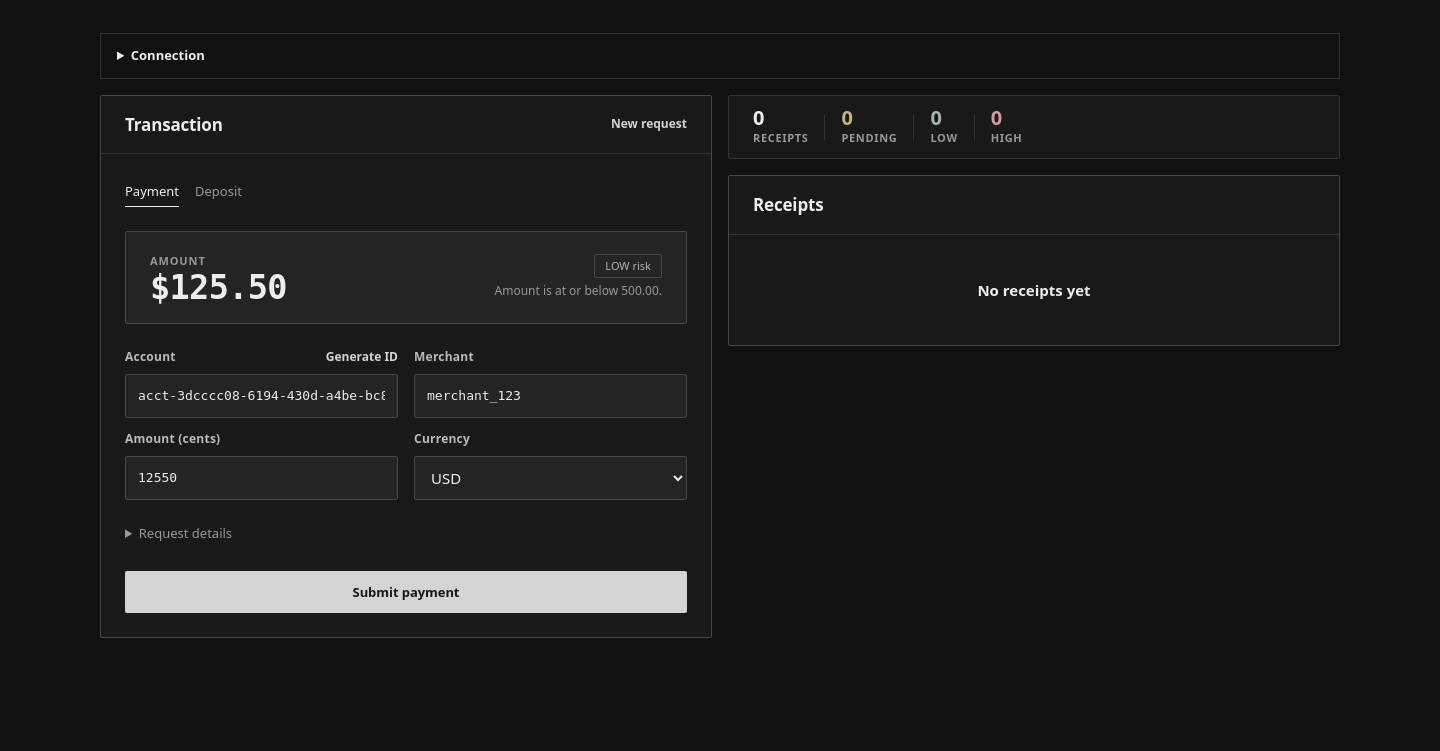
Test: a mismatched funding response cannot add an authorized receipt
Click the heading "Connection".
click(168, 55)  # box [131, 46, 205, 64]
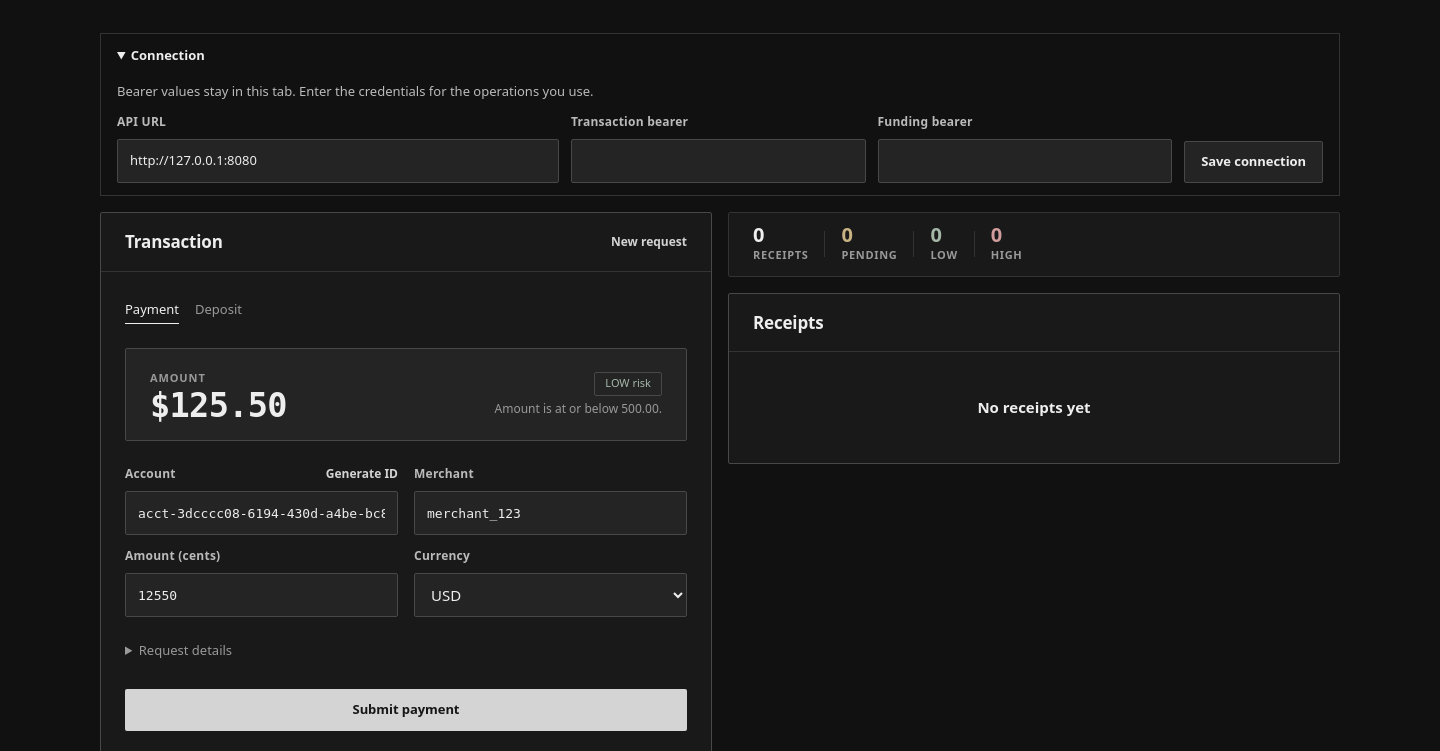
Replace the text in the field labelled "API URL" with "http://localhost:9000" at (338, 161), box [117, 139, 559, 183]
Type "transaction-test" into the password field labelled "Transaction bearer".
click(718, 161); type("transaction-test")  # box [571, 139, 866, 183]
Type "funding-test" into the password field labelled "Funding bearer".
click(1025, 161); type("funding-test")  # box [878, 139, 1172, 183]
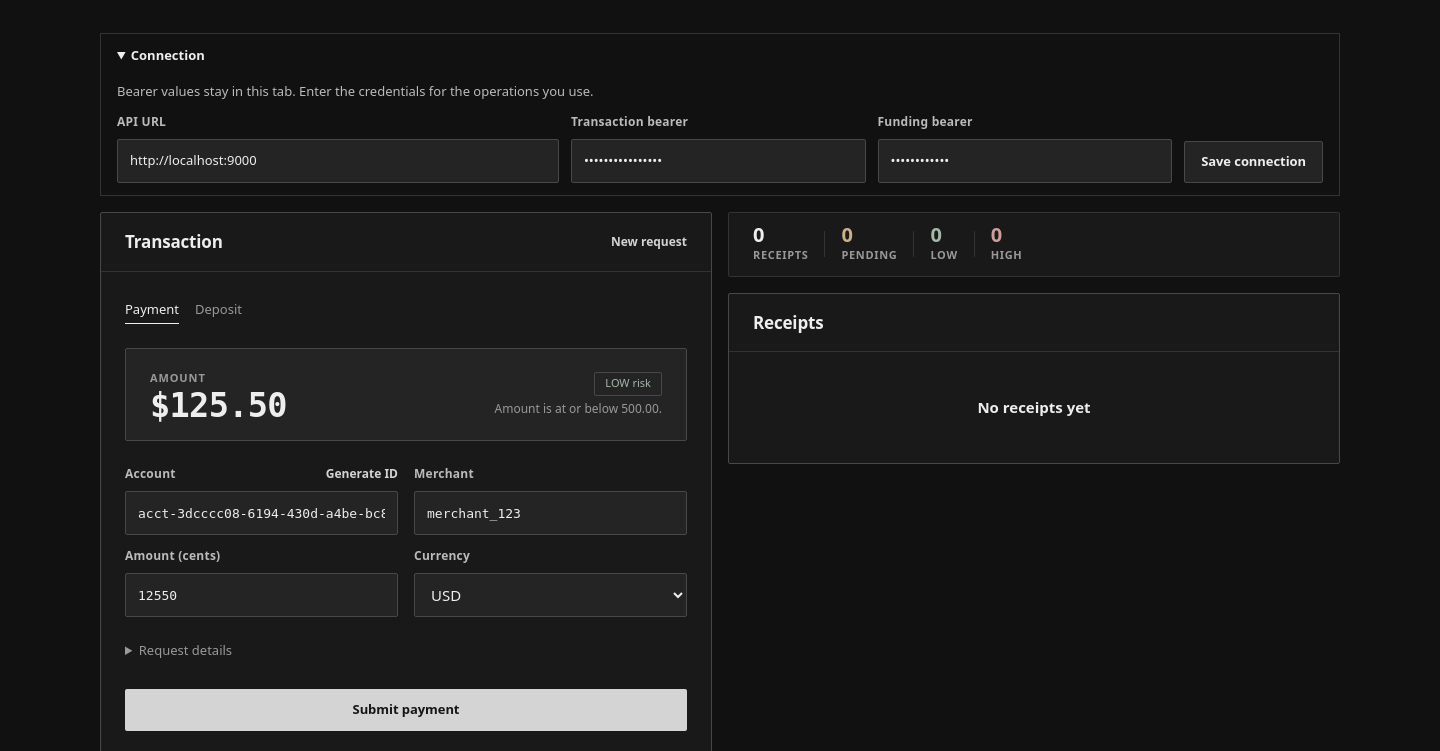
Click the button "Save connection".
click(1254, 162)  # box [1184, 141, 1323, 183]
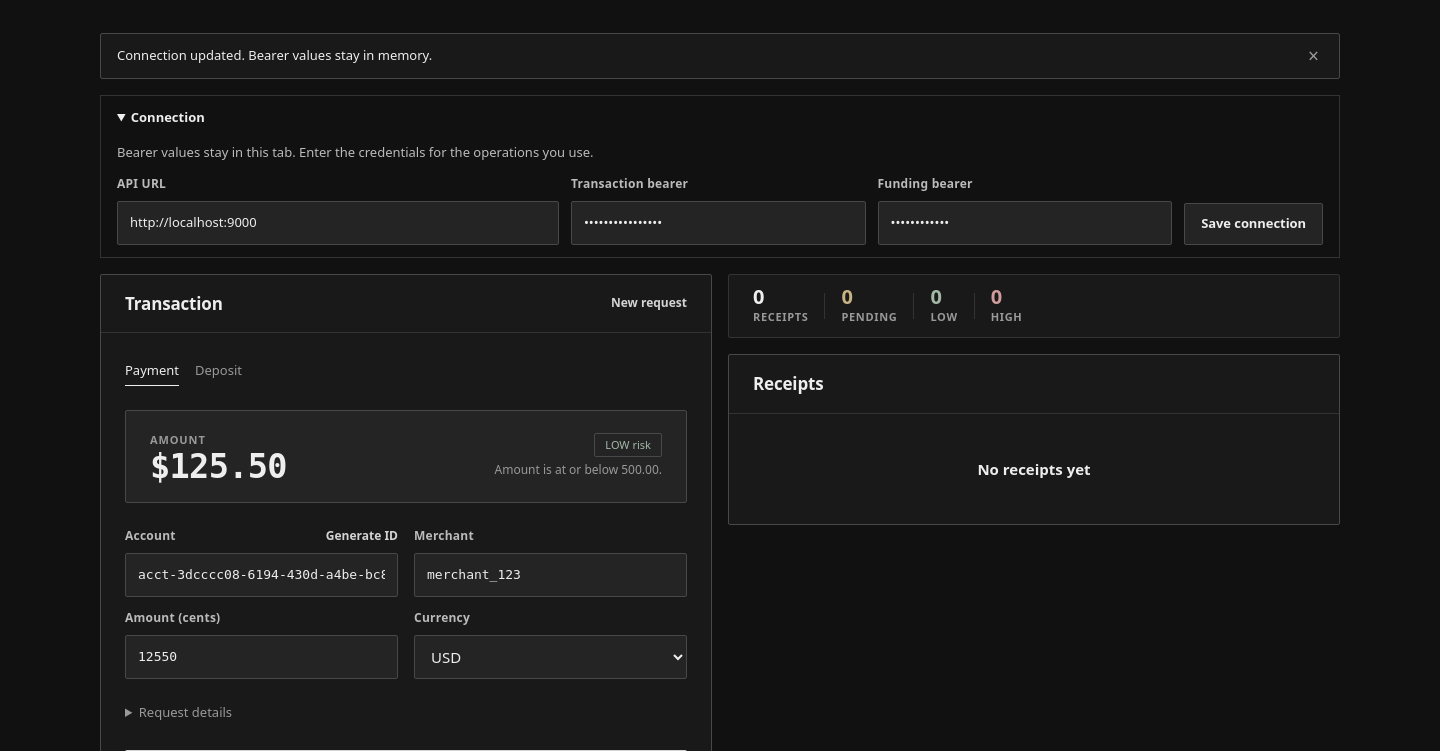
Click the button "Deposit".
click(218, 371)  # box [195, 357, 242, 386]
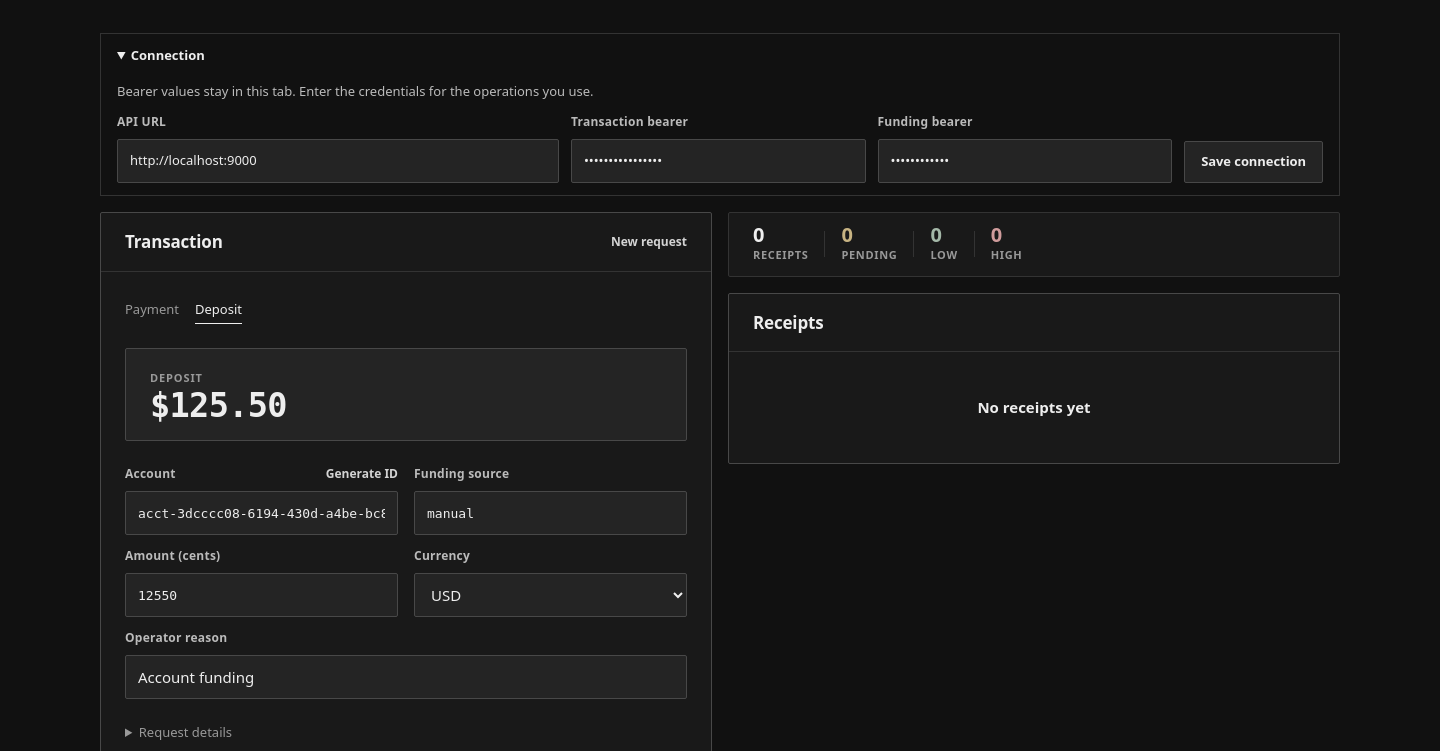
Replace the text in the number field labelled "Amount (cents)" with "50000" at (262, 596), box [125, 574, 398, 618]
(page scrolled)
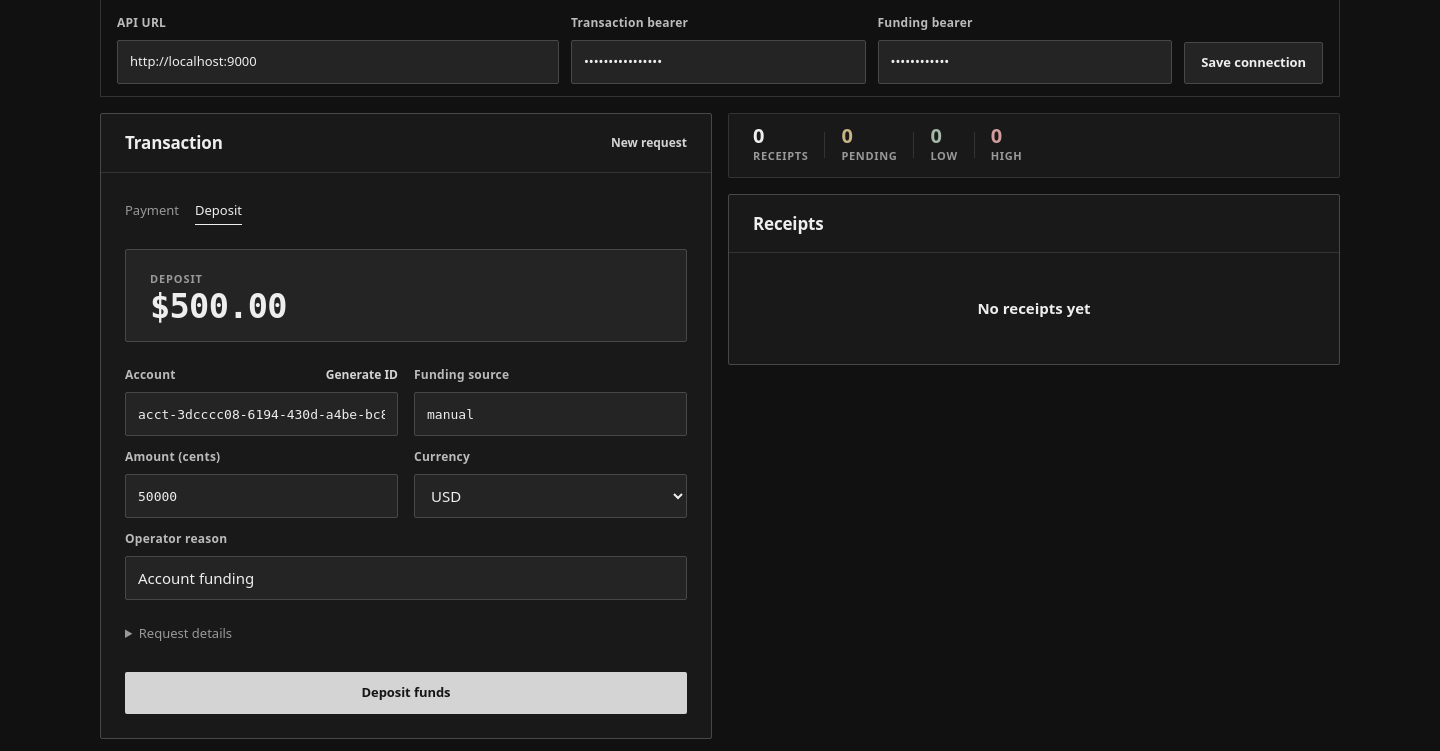
Click the button "Deposit funds".
click(406, 693)  # box [125, 672, 687, 714]
(page scrolled)
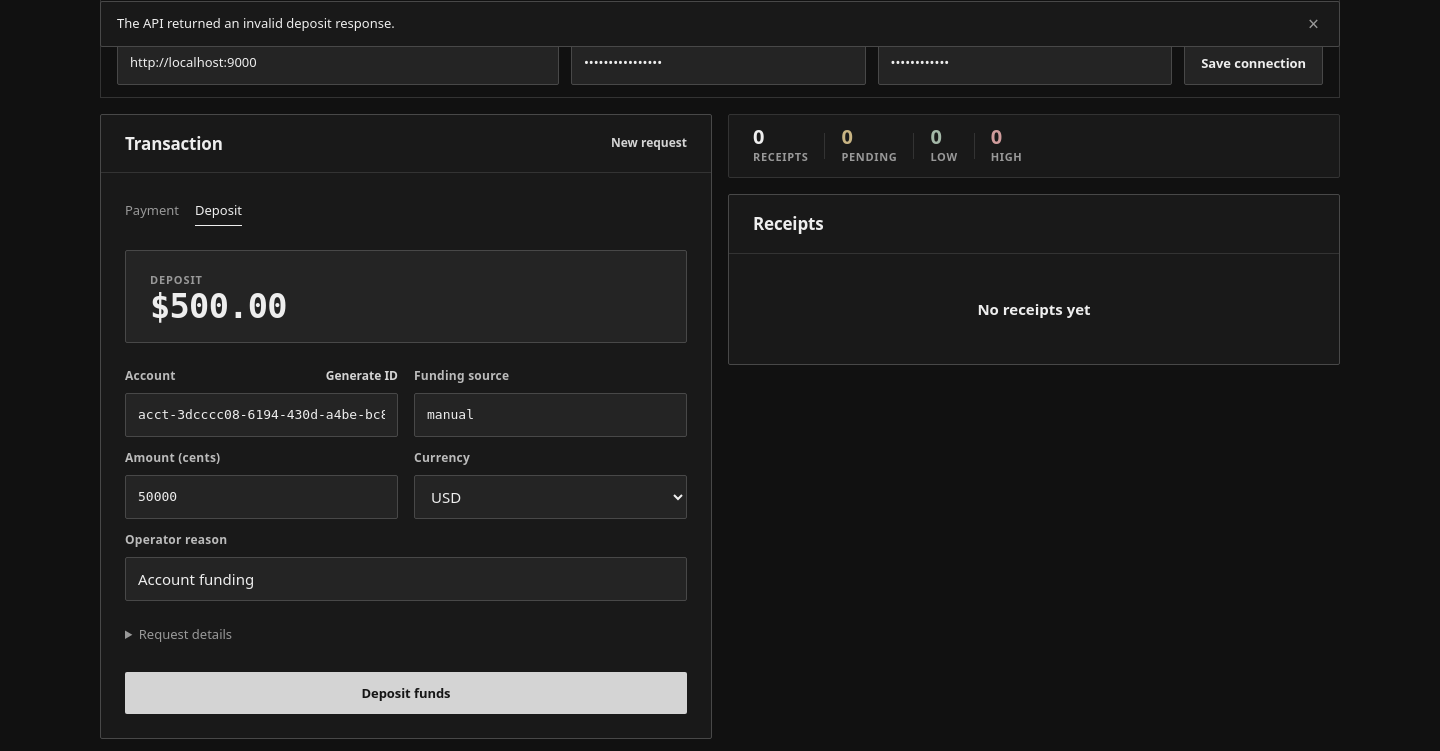
Expected: the text "The API returned an invalid deposit response." is shown, [117, 14, 395, 32]
